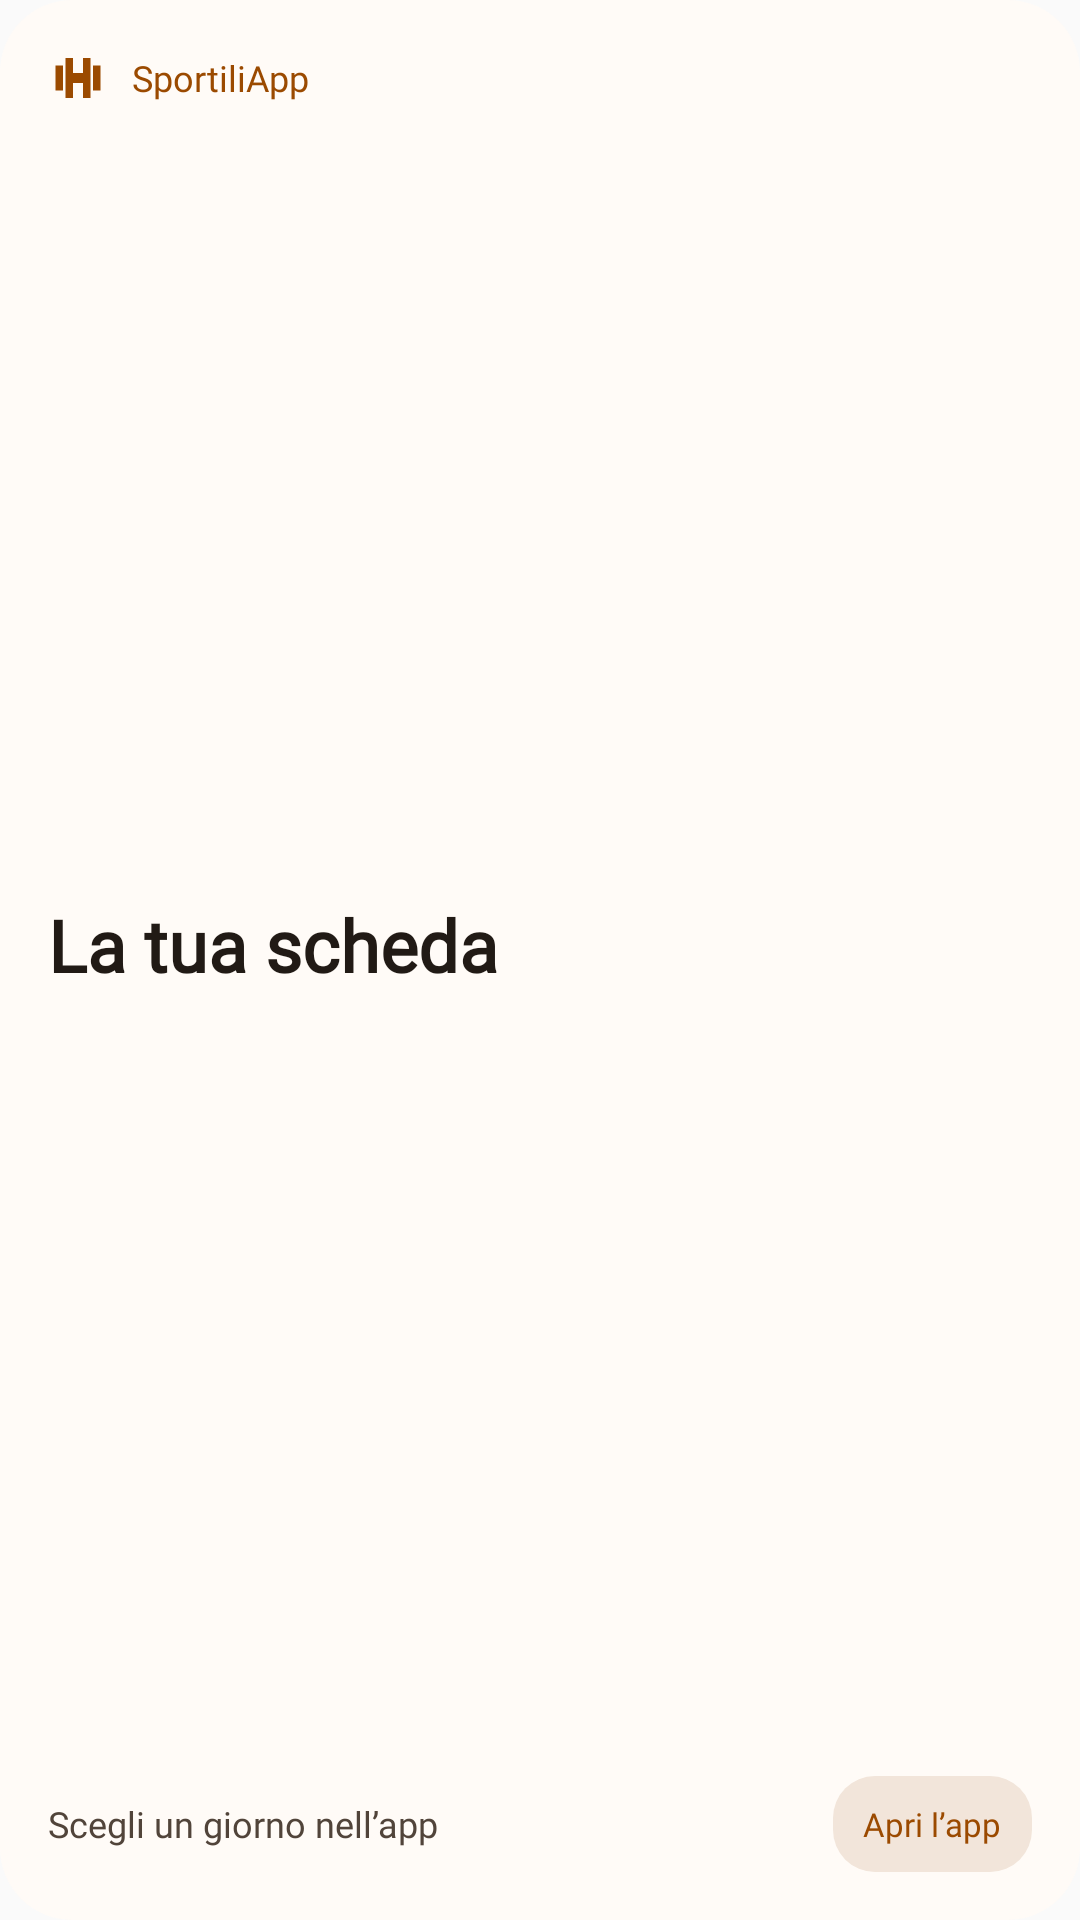

Where icons sit on this 1080×1920 app screen, as (x1, y1, x2, y2):
widget workout: (55, 58, 101, 98)
